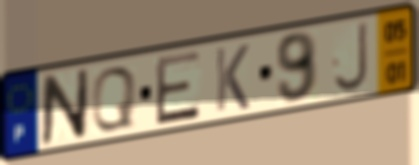9: (274, 29, 322, 106)
E: (153, 47, 203, 129)
J: (331, 19, 371, 95)
K: (213, 42, 252, 115)
N: (39, 66, 91, 148)
Q: (90, 64, 139, 134)
